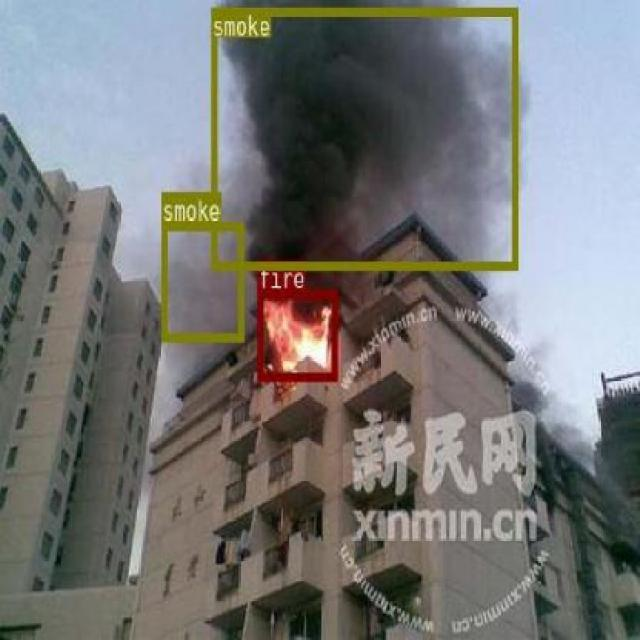Fire: (256, 288, 336, 380)
Smoke: (210, 6, 516, 269), (161, 220, 242, 342)
